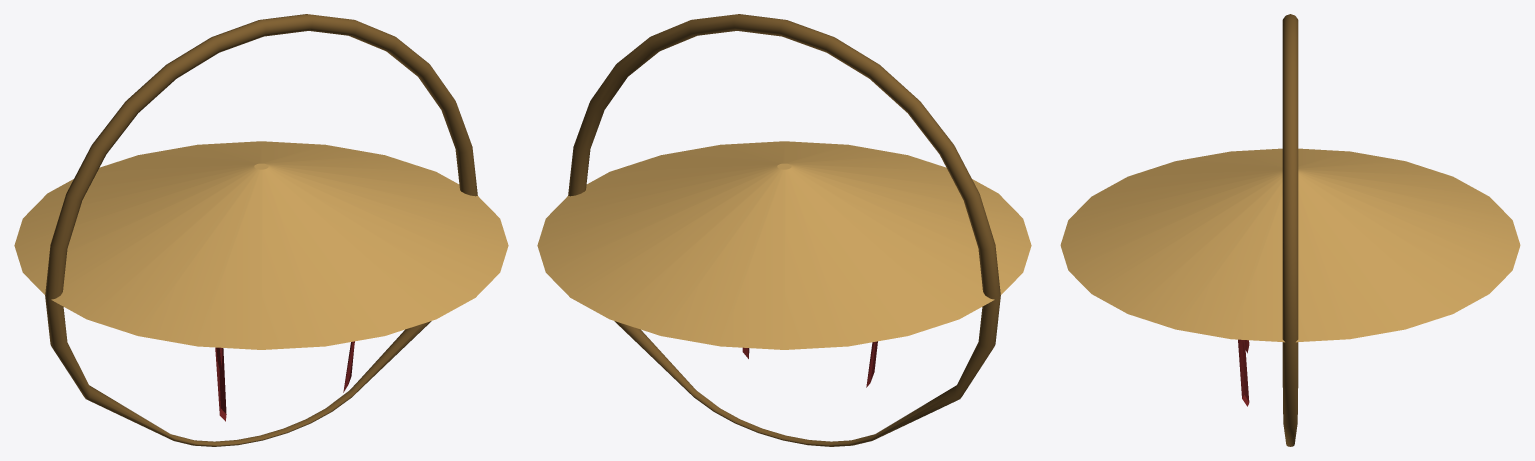
File: head_ancient_2.glb
The picture shows the model from 3 angles, left to right: view 1: azimuth 30°, elevation 25°; view 2: azimuth 150°, elevation 25°; view 3: azimuth 270°, elevation 25°; orthographic projection. The views are drawn at different scales.
Bounding box in the file's own units: 1.47 × 1.37 × 1.46.
